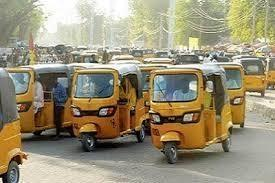keke: (148, 66, 234, 164), (69, 63, 148, 152), (0, 63, 26, 183), (238, 55, 266, 100)
